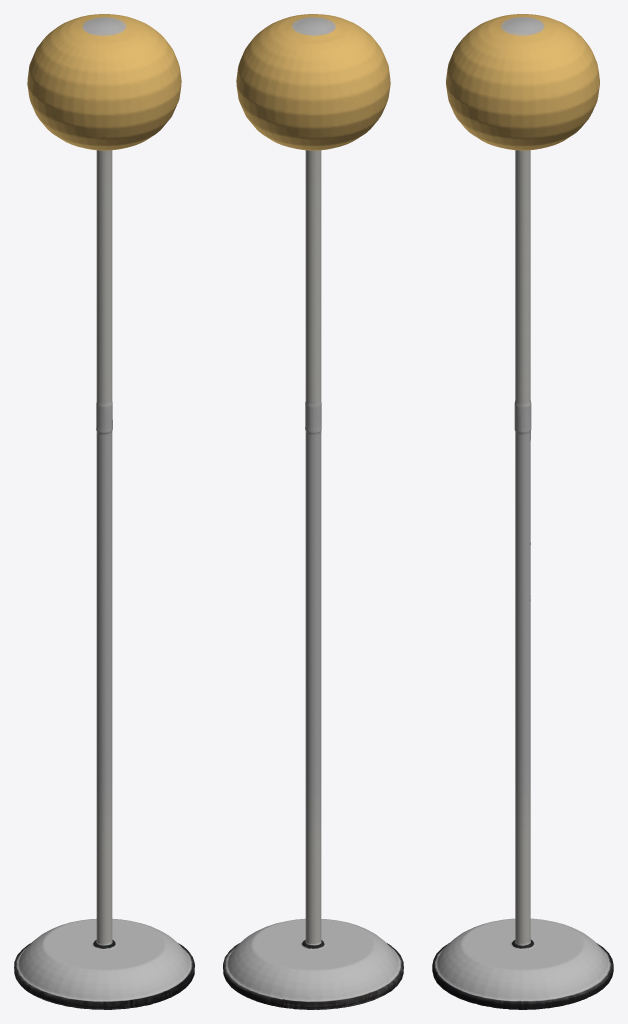
Rendered from furni1.glb.
The picture shows the model from 3 angles, left to right: view 1: azimuth 30°, elevation 25°; view 2: azimuth 150°, elevation 25°; view 3: azimuth 270°, elevation 25°; orthographic projection.
Visible parts, largest first — view 1: world; view 2: world; view 3: world.
Part boxes in pixels (bbox=[...]): world: bbox=[14, 14, 194, 1009]; world: bbox=[223, 14, 403, 1009]; world: bbox=[432, 14, 613, 1009].
Bounding box in the file's own units: 0.174 × 1 × 0.1739.
1 material, 1 textured.
